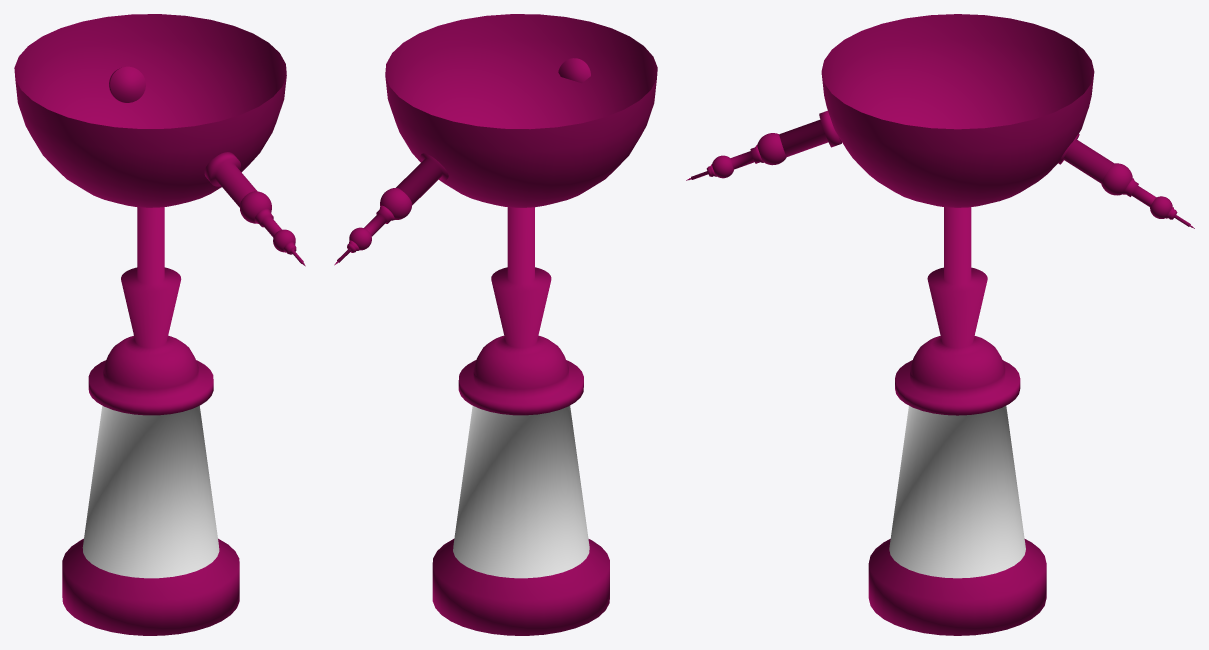
File: gizmo.fbx
3 views of the same model, side by side, from view 1: azimuth 30°, elevation 25°; view 2: azimuth 150°, elevation 25°; view 3: azimuth 270°, elevation 25° (orthographic).
Parts seen in each view (by area): view 1: Sphere.002; view 2: Sphere.002; view 3: Sphere.002.
Part boxes in pixels (x1,y1,x2,y2): Sphere.002: (14, 14, 305, 635); Sphere.002: (334, 14, 657, 635); Sphere.002: (686, 14, 1194, 635).
Bounding box in the file's own units: 200 × 426 × 373.
